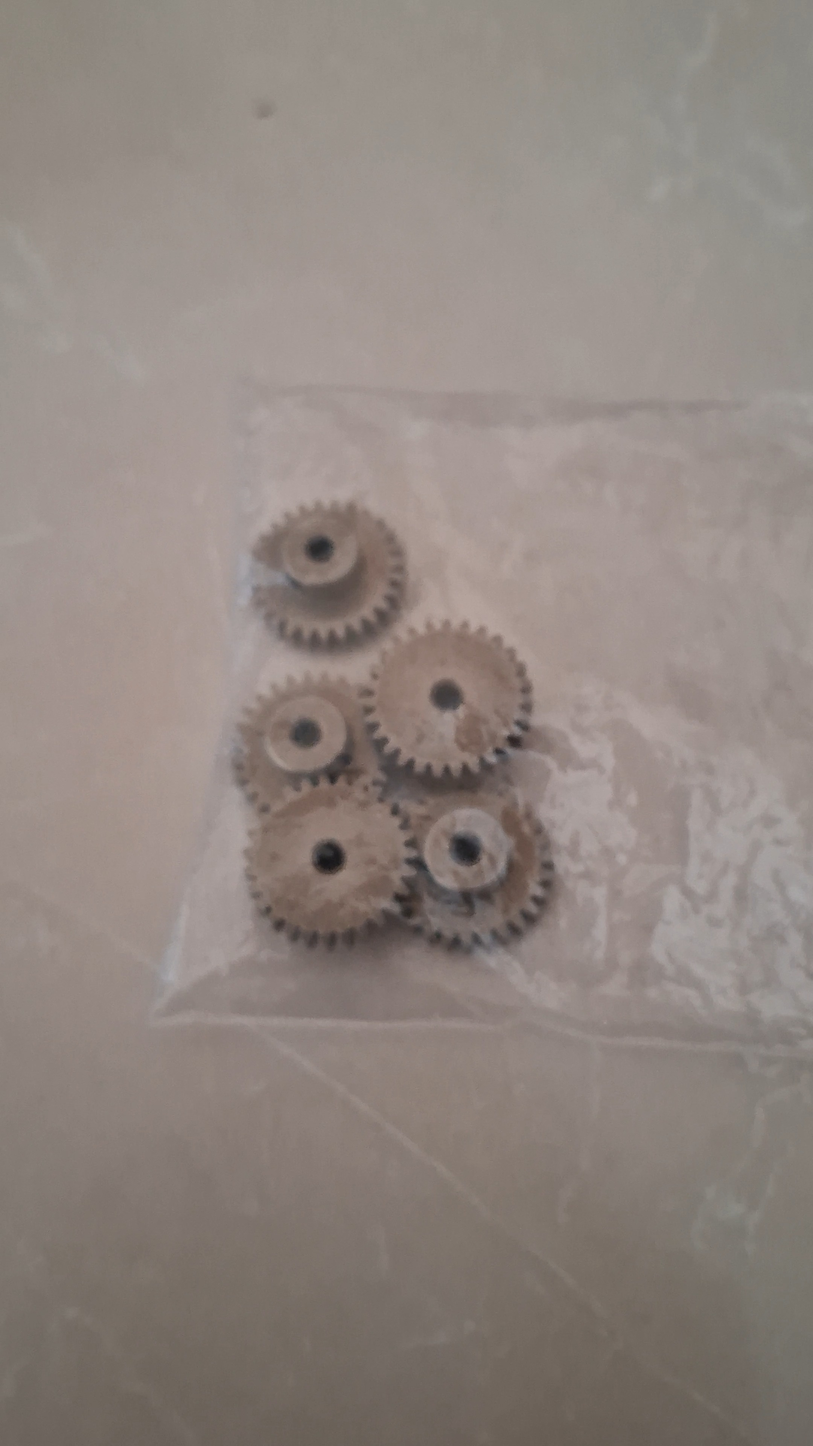spur gear: (246, 779, 414, 944), (362, 622, 532, 778), (403, 789, 553, 949), (254, 504, 405, 647), (233, 675, 379, 811)
